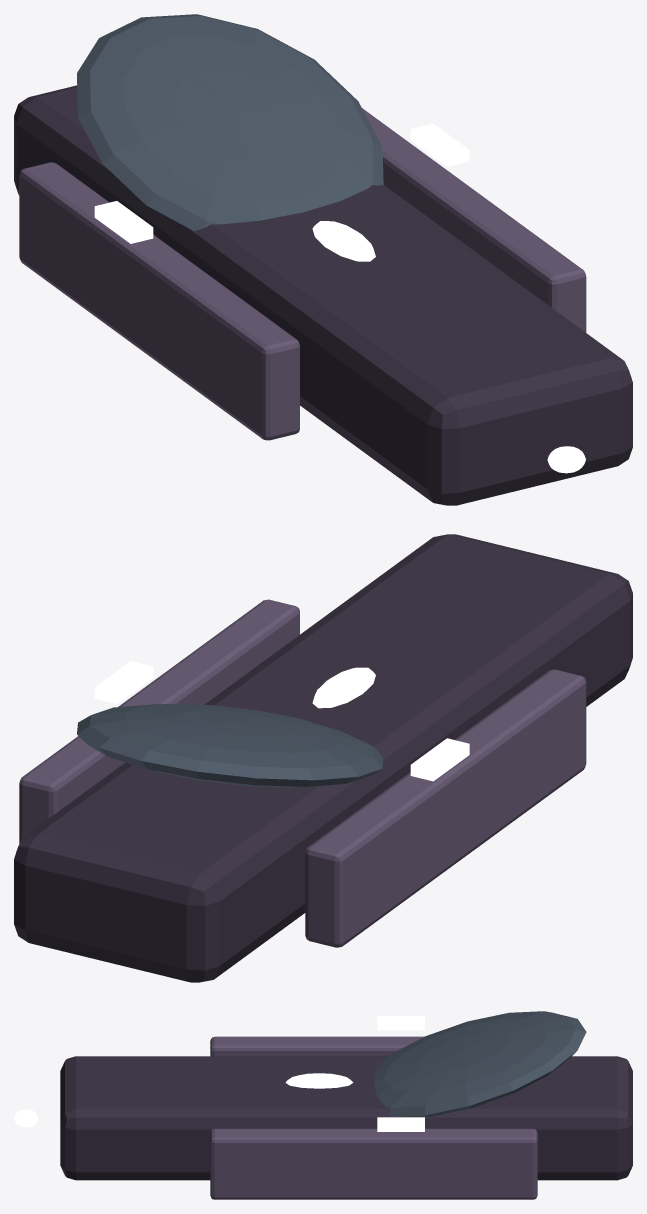
The picture shows the model from 3 angles, top to bottom: view 1: azimuth 30°, elevation 25°; view 2: azimuth 150°, elevation 25°; view 3: azimuth 270°, elevation 25°; orthographic projection. The views are drawn at different scales.
Visible parts, largest first — view 1: RIMWARD_HULL, RIMWARD_EMISSIVE, RIMWARD_ENGINE_GLOW; view 2: RIMWARD_HULL, RIMWARD_EMISSIVE; view 3: RIMWARD_HULL, RIMWARD_EMISSIVE, RIMWARD_ENGINE_GLOW.
Part boxes in pixels (bbox=[...]): RIMWARD_HULL: bbox=[14, 14, 632, 505]; RIMWARD_EMISSIVE: bbox=[94, 123, 469, 261]; RIMWARD_ENGINE_GLOW: bbox=[547, 446, 585, 473]; RIMWARD_HULL: bbox=[14, 534, 632, 982]; RIMWARD_EMISSIVE: bbox=[94, 661, 469, 781]; RIMWARD_HULL: bbox=[60, 1011, 632, 1199]; RIMWARD_EMISSIVE: bbox=[285, 1015, 424, 1131]; RIMWARD_ENGINE_GLOW: bbox=[14, 1109, 38, 1127].
Size of the model in its own units: 2.95 by 1.57 by 7.08.
